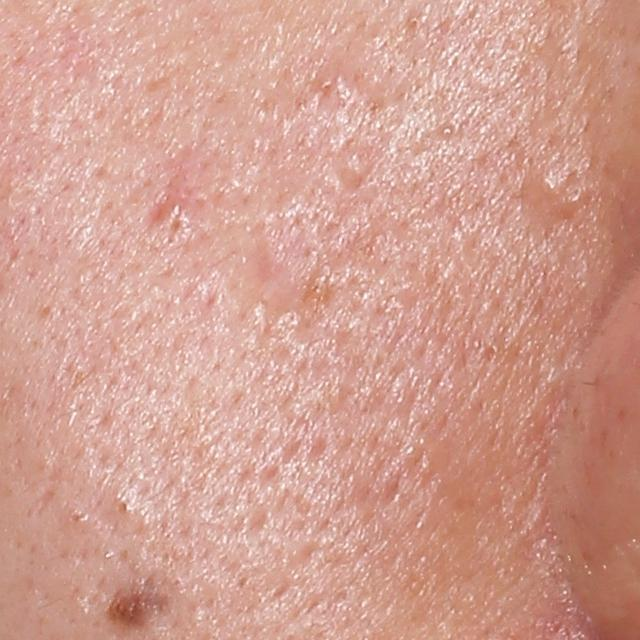comedo: (528, 159, 572, 203), (335, 150, 370, 188), (109, 494, 134, 521), (64, 507, 90, 531), (438, 122, 457, 141)
nevus: (102, 585, 176, 639)
